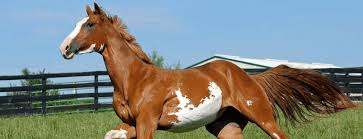horse: (62, 3, 345, 139)
